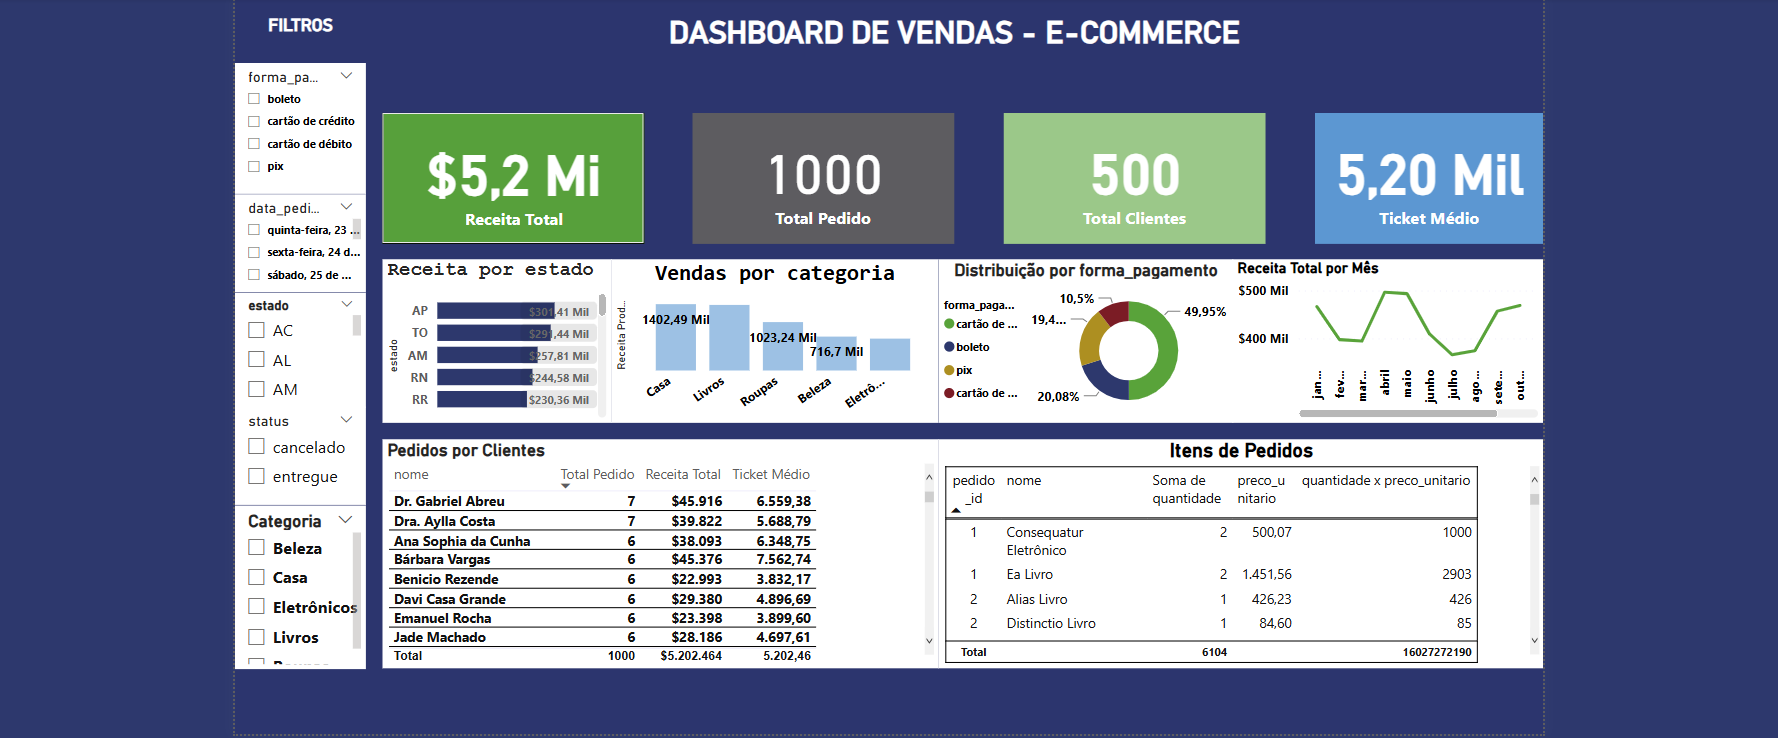

Layout of this report page (visuals, bound fields, positions):
{"tool":"powerbi","page":{"name":"Página 1","canvas":[1280,720],"ordinal":0},"visuals":[{"type":"card","fields":{"Values":["public clientes.Receita Total"]},"box":[144,112,256,128],"z":0},{"type":"card","fields":{"Values":["public clientes.Total Pedido"]},"box":[448,112,256,128],"z":1000},{"type":"card","fields":{"Values":["public clientes.Total Clientes"]},"box":[752,112,256,128],"z":2000},{"type":"card","fields":{"Values":["public clientes.Ticket Médio"]},"box":[1056,112,224,128],"z":3000},{"type":"barChart","title":"Receita por estado","fields":{"Category":["public clientes.estado"],"Y":["public clientes.Receita Total"]},"box":[144,256,224,160],"z":4000},{"type":"columnChart","title":"Vendas por categoria","fields":{"Category":["public produtos.categoria"],"Y":["public clientes.Receita Produtos"]},"box":[368,256,320,160],"z":5000},{"type":"donutChart","title":"Distribuição por forma_pagamento","fields":{"Y":["public clientes.Medida"],"Category":["public pagamentos.forma_pagamento"]},"box":[688,256,288,160],"z":6000},{"type":"lineChart","fields":{"Y":["public clientes.Receita Total"],"Category":["public pedidos.data_pedido.Variation.Hierarquia de datas.Mês"]},"box":[976,256,304,160],"z":7000},{"type":"tableEx","title":"Pedidos por Clientes","fields":{"Values":["public clientes.nome","public clientes.Total Pedido","public clientes.Receita Total","public clientes.Ticket Médio"]},"box":[144,432,544,224],"z":8000},{"type":"tableEx","title":"Itens de Pedidos","fields":{"Values":["public pedidos.pedido_id","public produtos.nome","Sum(public itens_pedido.quantidade)","public itens_pedido.preco_unitario","public itens_pedido.quantidade x preco_unitario"]},"box":[688,432,592,224],"z":9000},{"type":"slicer","fields":{"Values":["public pedidos.data_pedido"]},"box":[0,192,128,96],"z":10000},{"type":"slicer","fields":{"Values":["public produtos.categoria"]},"box":[0,496,128,160],"z":11000},{"type":"slicer","fields":{"Values":["public clientes.estado"]},"box":[0,288,128,112],"z":12000},{"type":"slicer","fields":{"Values":["public pagamentos.forma_pagamento"]},"box":[0,64,128,128],"z":13000},{"type":"slicer","fields":{"Values":["public pedidos.status"]},"box":[0,400,128,96],"z":14000},{"type":"textbox","title":"DASHBOARD DE VENDAS - E-COMMERCE","box":[240,16,928,80],"z":14001},{"type":"textbox","title":"FILTROS","box":[0,16,128,48],"z":14002}]}

Visuals, with their boxes in screenshot pixels (x1, y1, x2, y2):
card - public clientes.Receita Total: [377, 113, 635, 242]
card - public clientes.Total Pedido: [683, 113, 941, 242]
card - public clientes.Total Clientes: [990, 113, 1248, 242]
card - public clientes.Ticket Médio: [1296, 113, 1522, 242]
"Receita por estado" barChart: [377, 258, 603, 419]
"Vendas por categoria" columnChart: [603, 258, 925, 419]
"Distribuição por forma_pagamento" donutChart: [925, 258, 1216, 419]
lineChart - public clientes.Receita Total x public pedidos.data_pedido.Variation.Hierarquia de datas.Mês: [1216, 258, 1522, 419]
"Pedidos por Clientes" tableEx: [377, 436, 925, 661]
"Itens de Pedidos" tableEx: [925, 436, 1522, 661]
slicer - public pedidos.data_pedido: [232, 194, 361, 290]
slicer - public produtos.categoria: [232, 500, 361, 661]
slicer - public clientes.estado: [232, 290, 361, 403]
slicer - public pagamentos.forma_pagamento: [232, 65, 361, 194]
slicer - public pedidos.status: [232, 403, 361, 500]
"DASHBOARD DE VENDAS - E-COMMERCE" textbox: [474, 16, 1409, 97]
"FILTROS" textbox: [232, 16, 361, 65]
